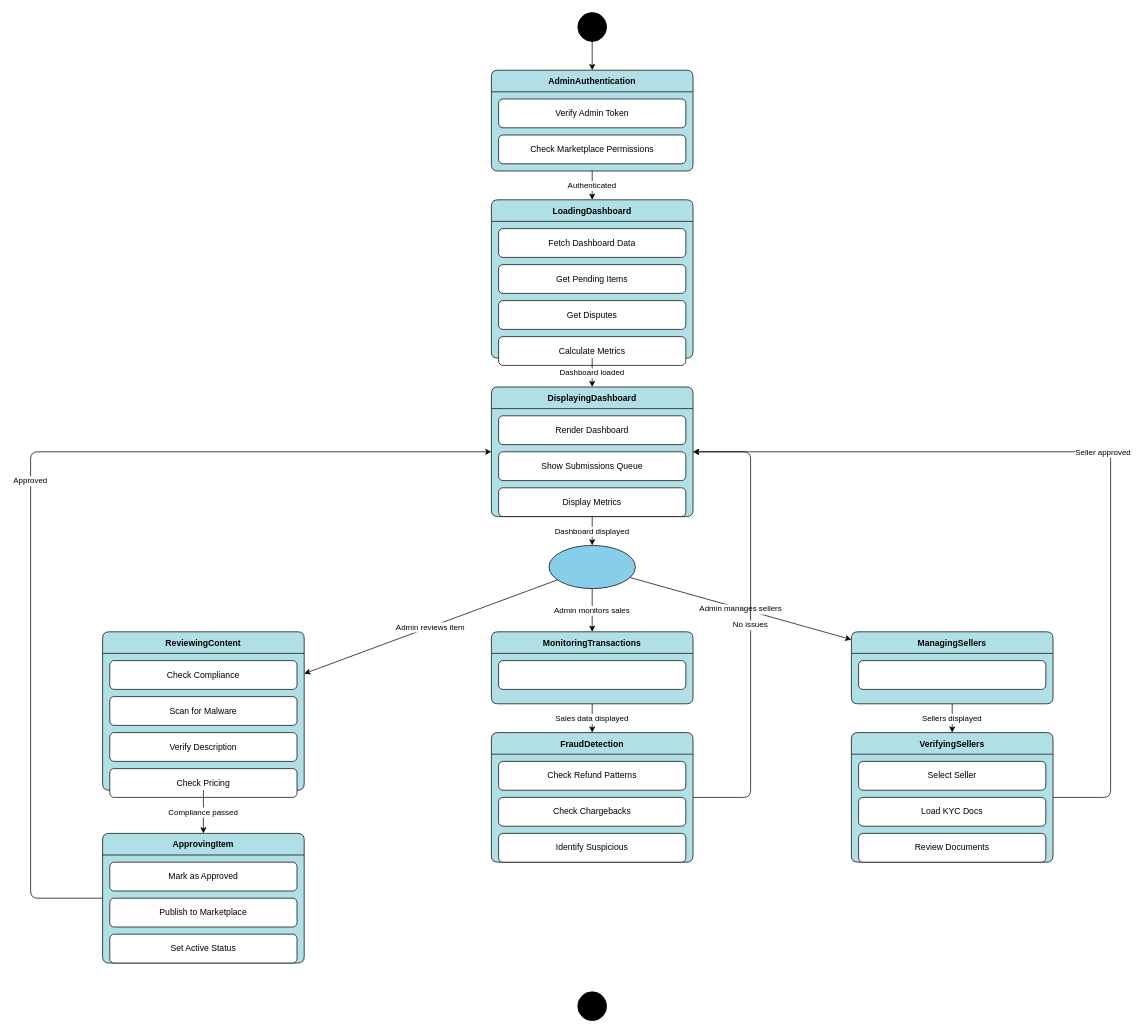
Image size: 1144x1033. Some labels were removed from this diagram. The shapes that lost their labels are listed below. From the top down, each one's centre as x and y in pixels, then its label:
At [591,567]: "Admin Action".
At [592,674]: "View Sales Data".
At [952,674]: "View Seller List".
